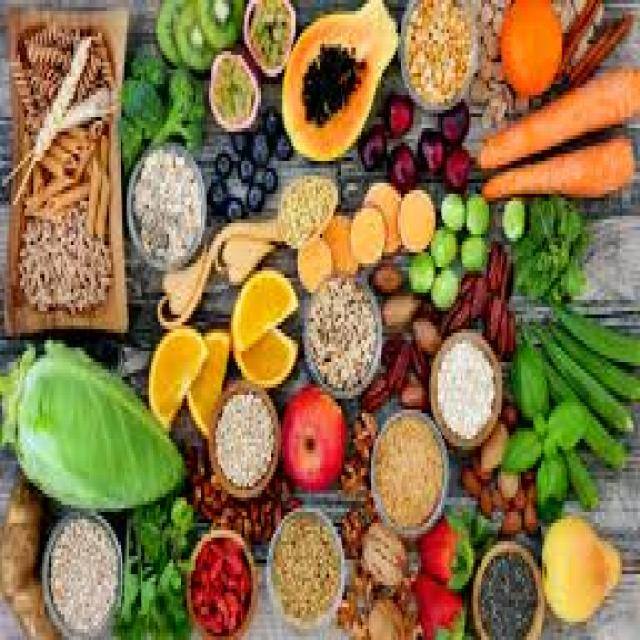food_waste: (23, 63, 610, 586)
